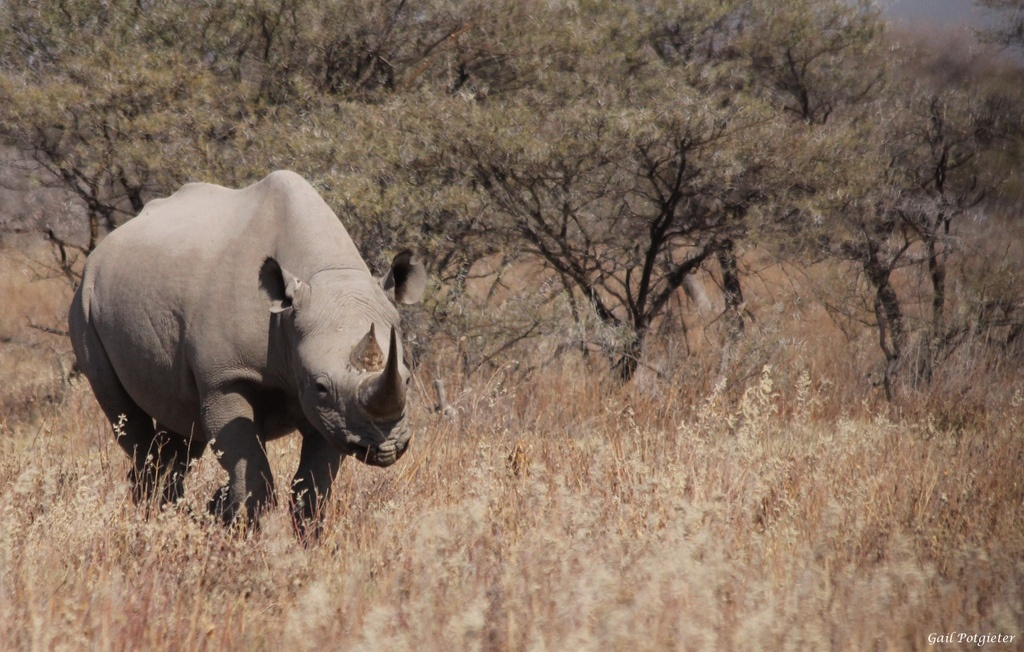rhino: (56, 166, 432, 539)
